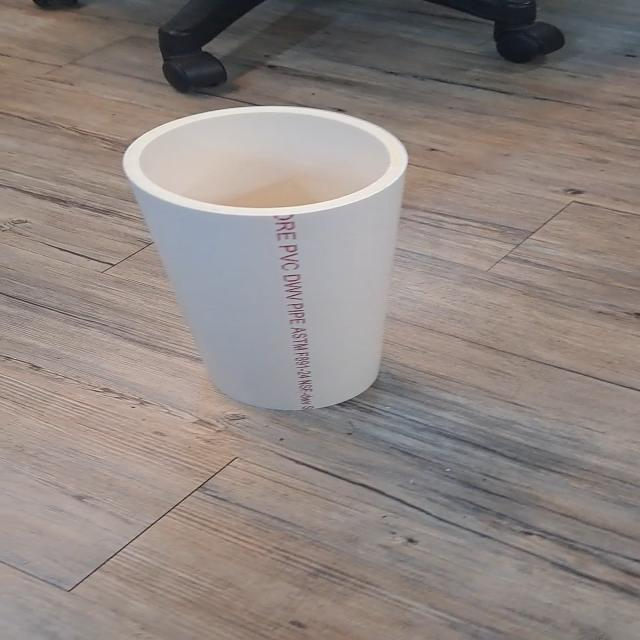CORAL: (122, 99, 440, 418)
